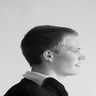ear: (39, 45, 57, 67)
